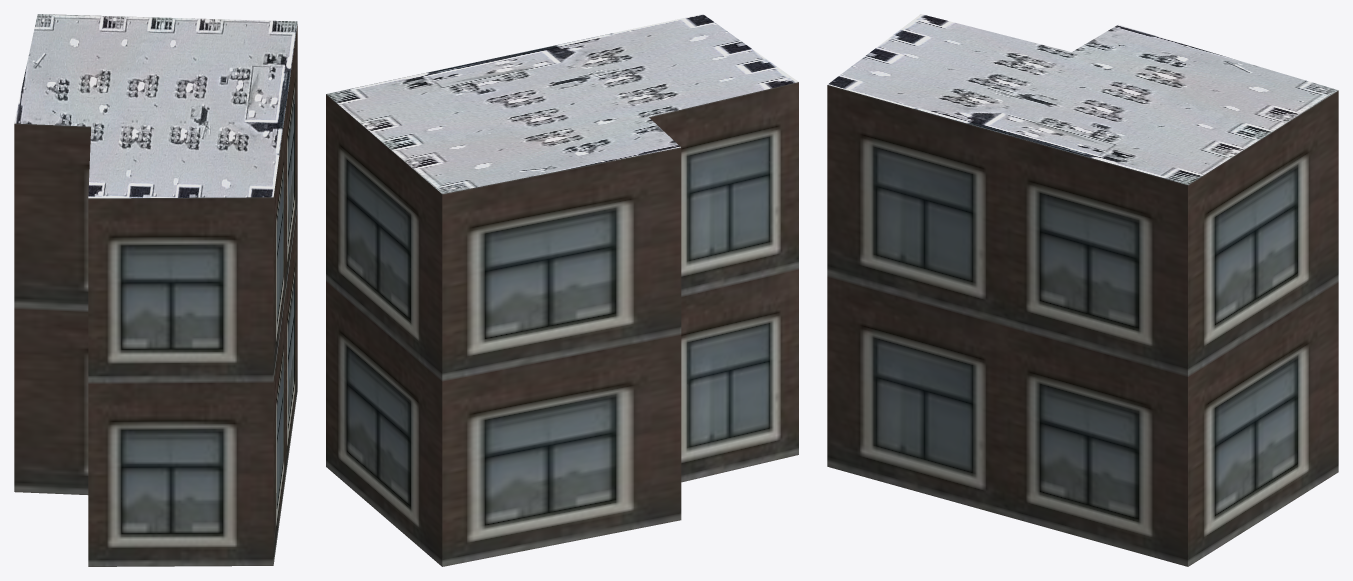
The model's file is ResTex__4958.fbx.
3 renders of one model, left to right at view 1: azimuth 30°, elevation 25°; view 2: azimuth 150°, elevation 25°; view 3: azimuth 270°, elevation 25°, orthographic. The views are drawn at different scales.
Parts seen in each view (by area): view 1: CityEngineMaterial_16_m, CityEngineMaterial_15_m; view 2: CityEngineMaterial_16_m, CityEngineMaterial_15_m; view 3: CityEngineMaterial_16_m, CityEngineMaterial_15_m.
Part boxes in pixels (<box>): CityEngineMaterial_16_m: <box>14,24,297,566</box>; CityEngineMaterial_15_m: <box>14,14,297,198</box>; CityEngineMaterial_16_m: <box>326,82,798,566</box>; CityEngineMaterial_15_m: <box>326,14,798,193</box>; CityEngineMaterial_16_m: <box>827,85,1338,566</box>; CityEngineMaterial_15_m: <box>827,14,1338,184</box>.
Bounding box in the file's own units: 5.77 × 6 × 7.28.
Materials: 2 (2 with a texture image).
